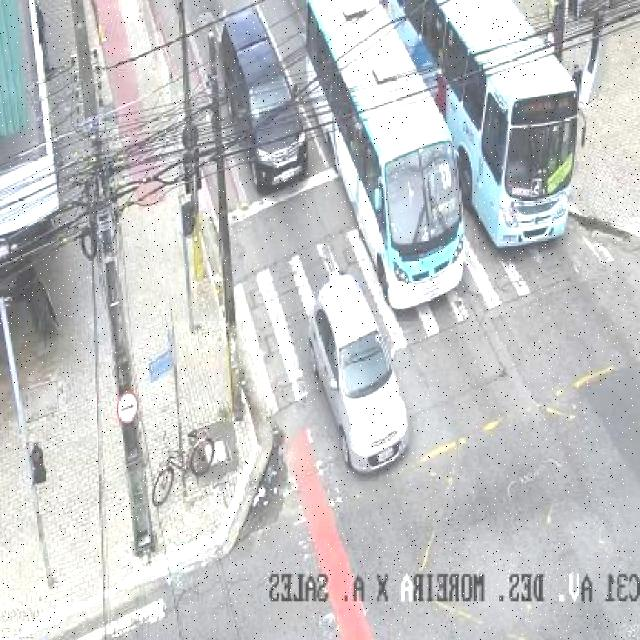Bus: (297, 0, 479, 311), (396, 0, 590, 259)
Car: (208, 5, 322, 215), (307, 279, 412, 479)
